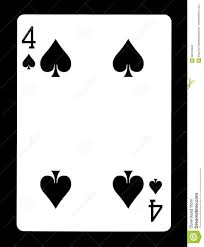four of spades: (17, 11, 172, 231)
